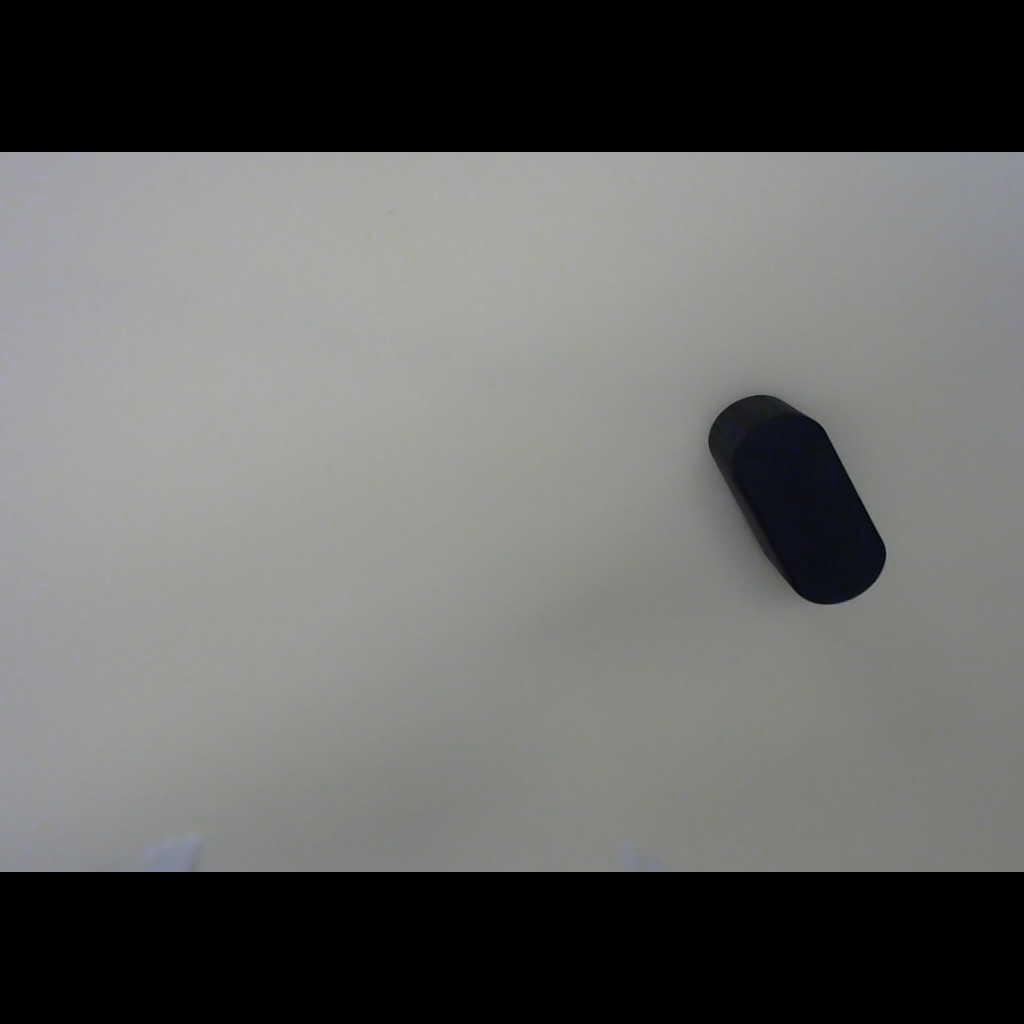oval: (667, 345, 929, 647)
